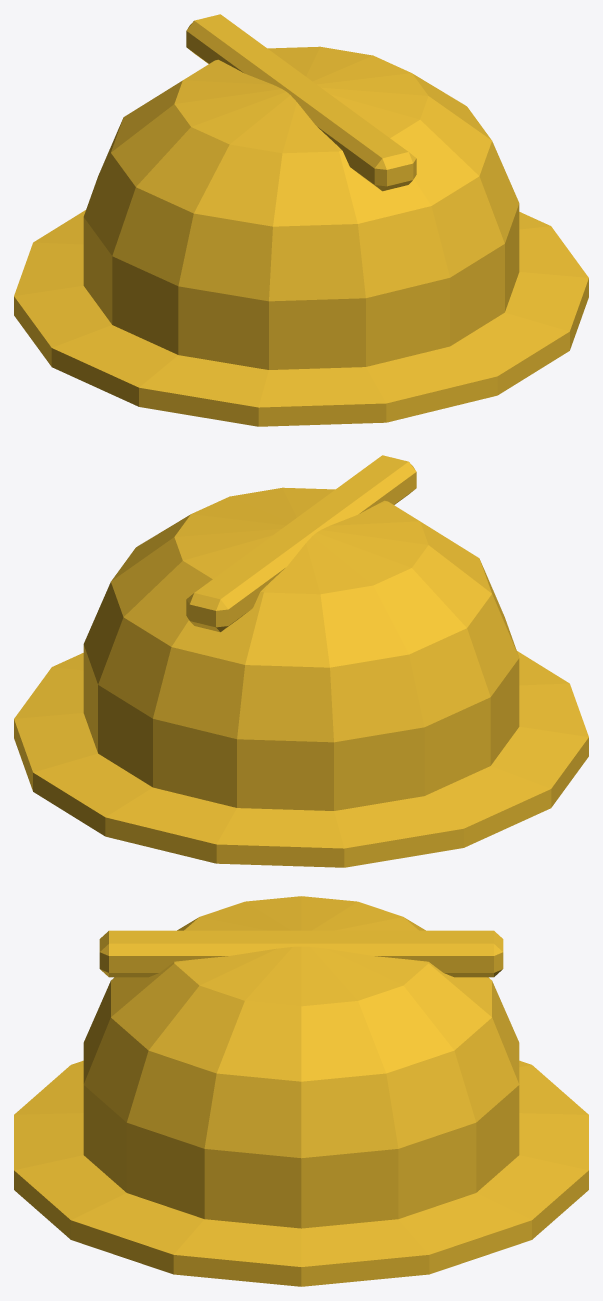
File: COS_HardHat.fbx
3 renders of one model, top to bottom at view 1: azimuth 30°, elevation 25°; view 2: azimuth 150°, elevation 25°; view 3: azimuth 270°, elevation 25°, orthographic. The views are drawn at different scales.
Parts seen in each view (by area): view 1: COS_HardHat; view 2: COS_HardHat; view 3: COS_HardHat.
Part boxes in pixels (box(x1,y1,x2,y2)): COS_HardHat: box(14, 14, 588, 426); COS_HardHat: box(14, 455, 588, 867); COS_HardHat: box(14, 896, 588, 1286).
Size of the model in its own units: 1.9 by 0.8 by 1.85.
